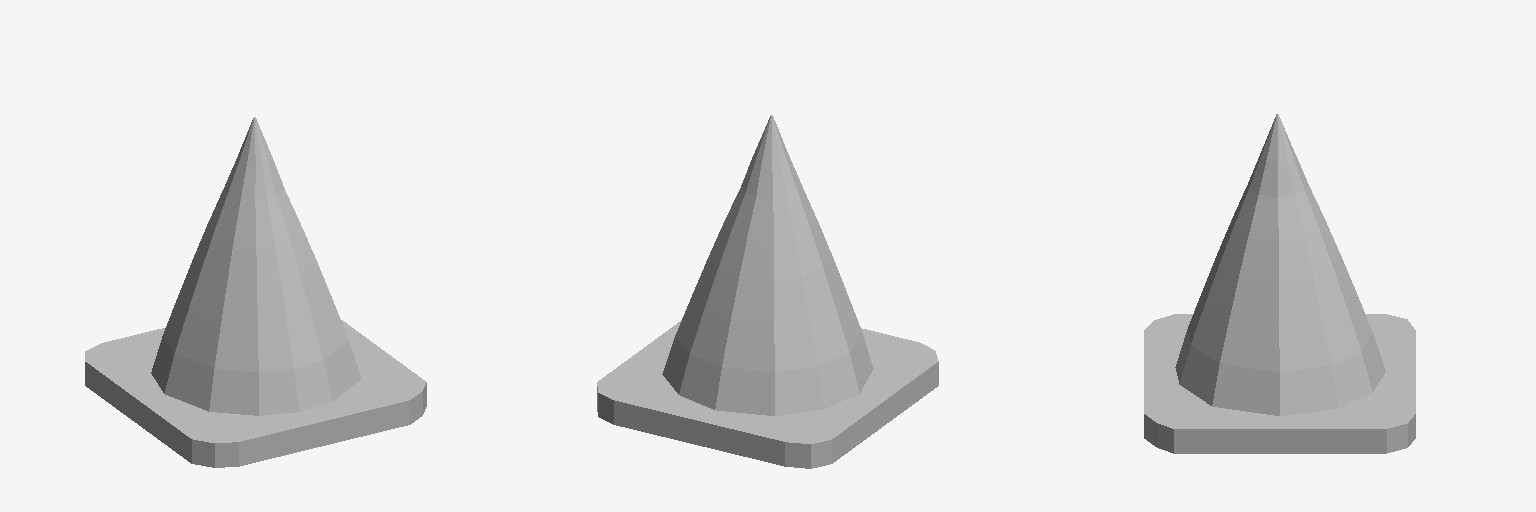
Rendered from Pylon.obj.
The picture shows the model from 3 angles: view 1: azimuth 30°, elevation 25°; view 2: azimuth 150°, elevation 25°; view 3: azimuth 270°, elevation 25°; orthographic projection.
Visible parts, largest first — view 1: Cone, Cube_Cube.001; view 2: Cone, Cube_Cube.001; view 3: Cone, Cube_Cube.001.
Boxes of the visible parts, x1,y1,x2,y2 form: Cone: [151, 117, 360, 415]; Cube_Cube.001: [85, 320, 426, 467]; Cone: [662, 115, 873, 415]; Cube_Cube.001: [597, 320, 938, 468]; Cone: [1175, 114, 1385, 415]; Cube_Cube.001: [1144, 314, 1415, 453].
Bounding box in the file's own units: 2 × 2.28 × 2.